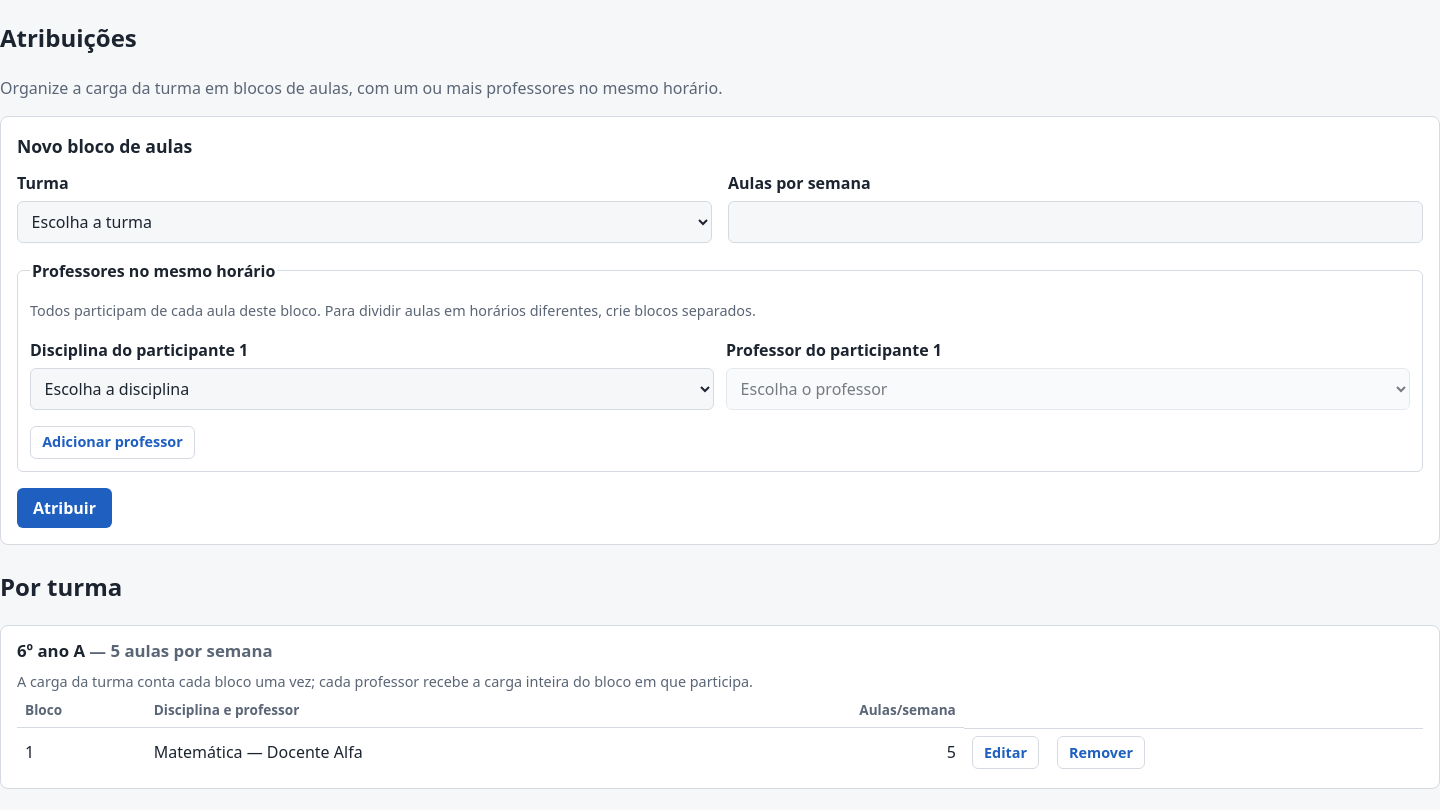
AssignmentsPage › remove só depois de confirmar
Step 1. Click the button with aria-label "Remover bloco 1 em 6º ano A" → x=1101, y=753, box [1057,736,1145,769]
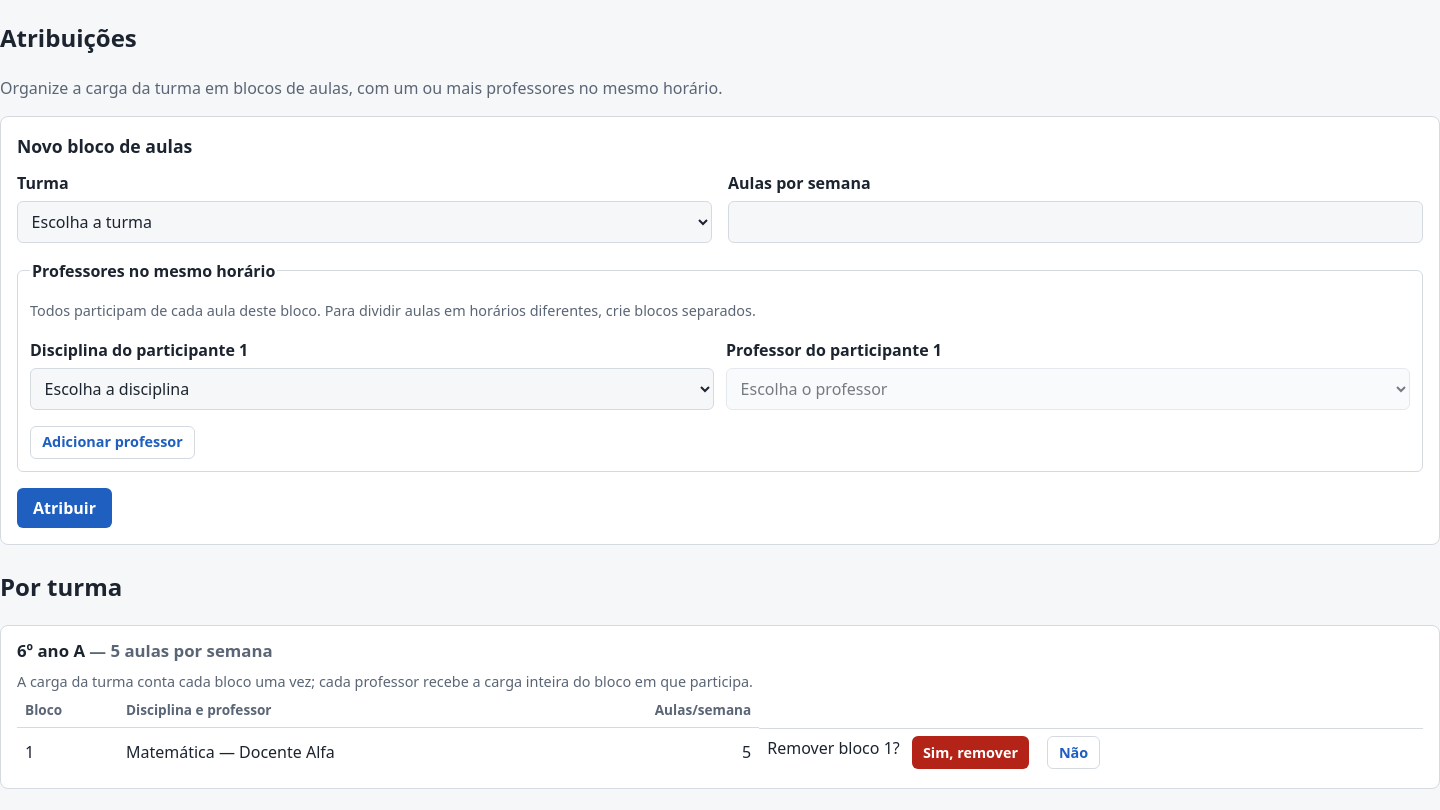
Step 2. Click the button with aria-label "Confirmar remoção do bloco 1 em 6º ano A" → x=970, y=753, box [912,736,1029,769]
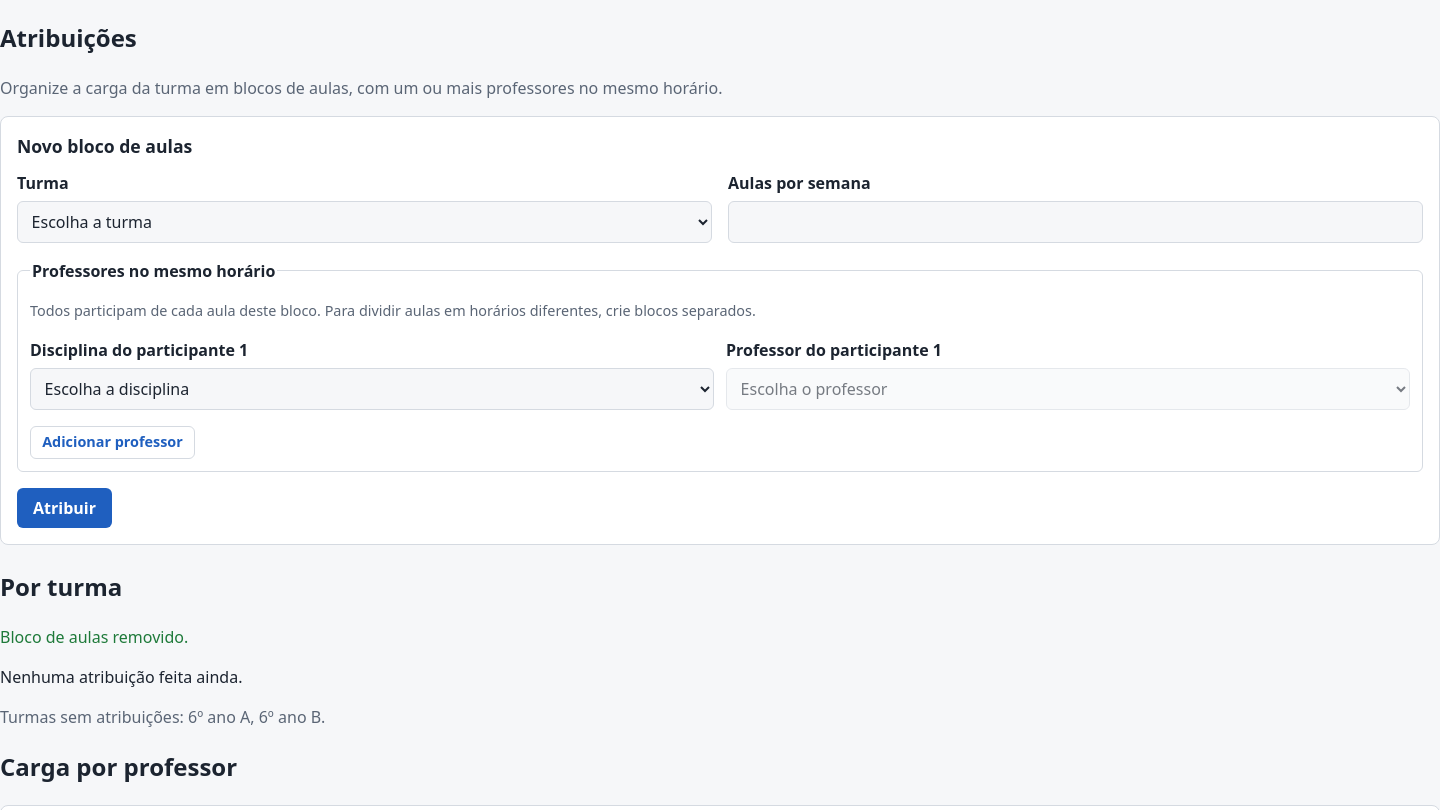
expect the message "Bloco de aulas removido." is shown: met, box [0,626,188,648]
expect the text "Nenhuma atribuição feita ainda." is shown: met, box [0,666,242,688]
